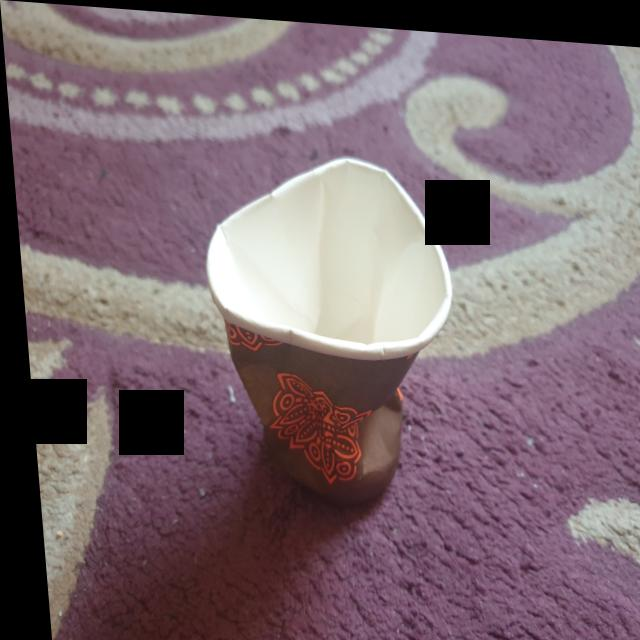cups: (188, 134, 469, 512)
